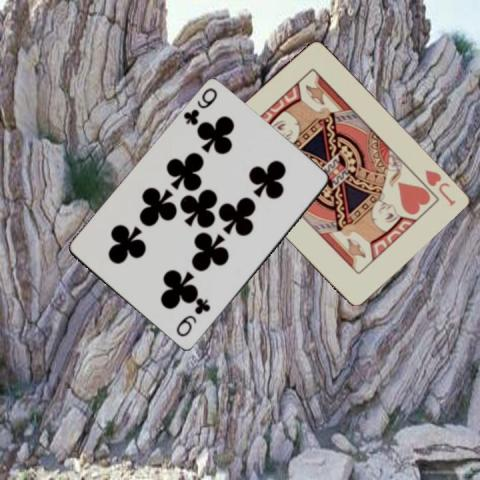9c: (173, 296, 212, 339), (181, 85, 219, 127)
Jh: (421, 167, 457, 208)
